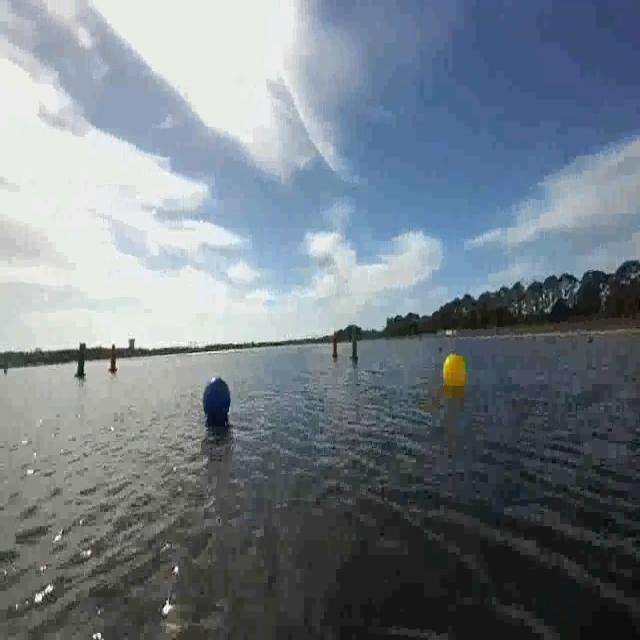blue-buoy: (203, 376, 230, 420)
green-column-buoy: (75, 342, 87, 378), (350, 328, 360, 361)
red-column-buoy: (108, 347, 118, 373), (329, 336, 338, 360)
yellow-buoy: (442, 353, 467, 390)
